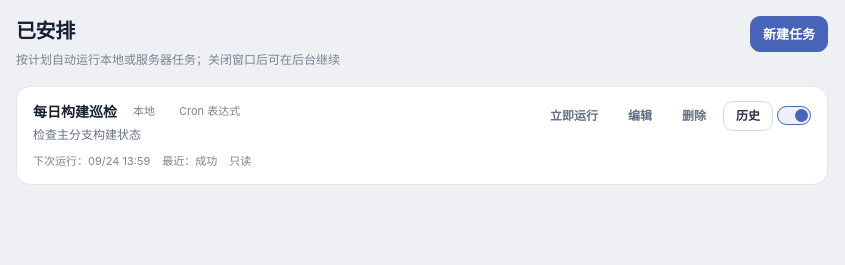
Test case: ScheduledTasks 行操作 › shows the error banner when toggle fails, even after the reload settles
Step 1. Click the switch named "每日构建巡检：启用或停用" → (794, 116), box left=777, top=106, right=811, bottom=125
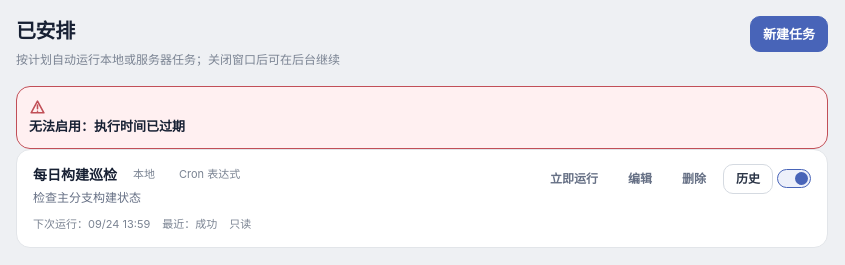
Result: the message with class "error-banner" reads "无法启用：执行时间已过期" at left=29, top=118, right=185, bottom=134
